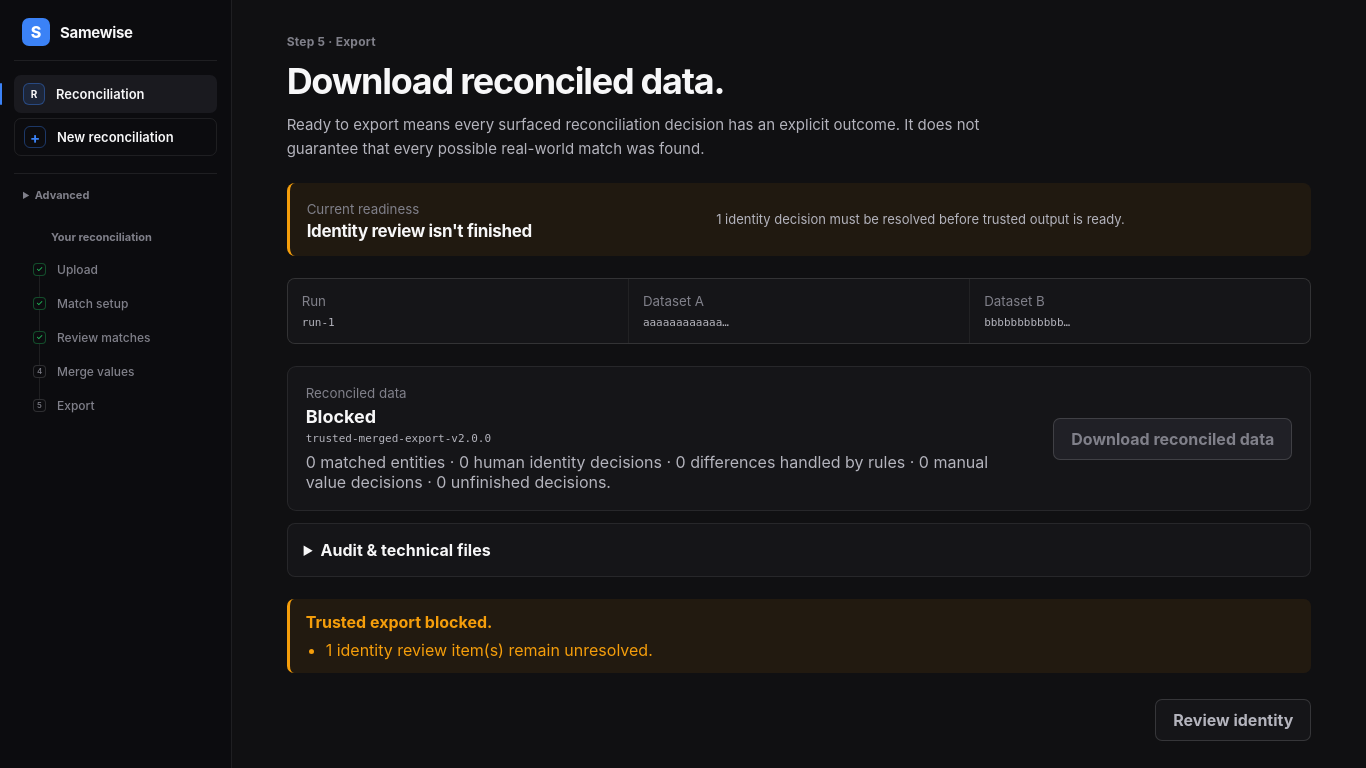
Scenario: Samewise vertical slice › cancels the New reconciliation confirmation
What coordinates should you click on to do the following:
click the button "+ New reconciliation"
I would click on:
 (116, 137)
Its box is [14,118,217,156].
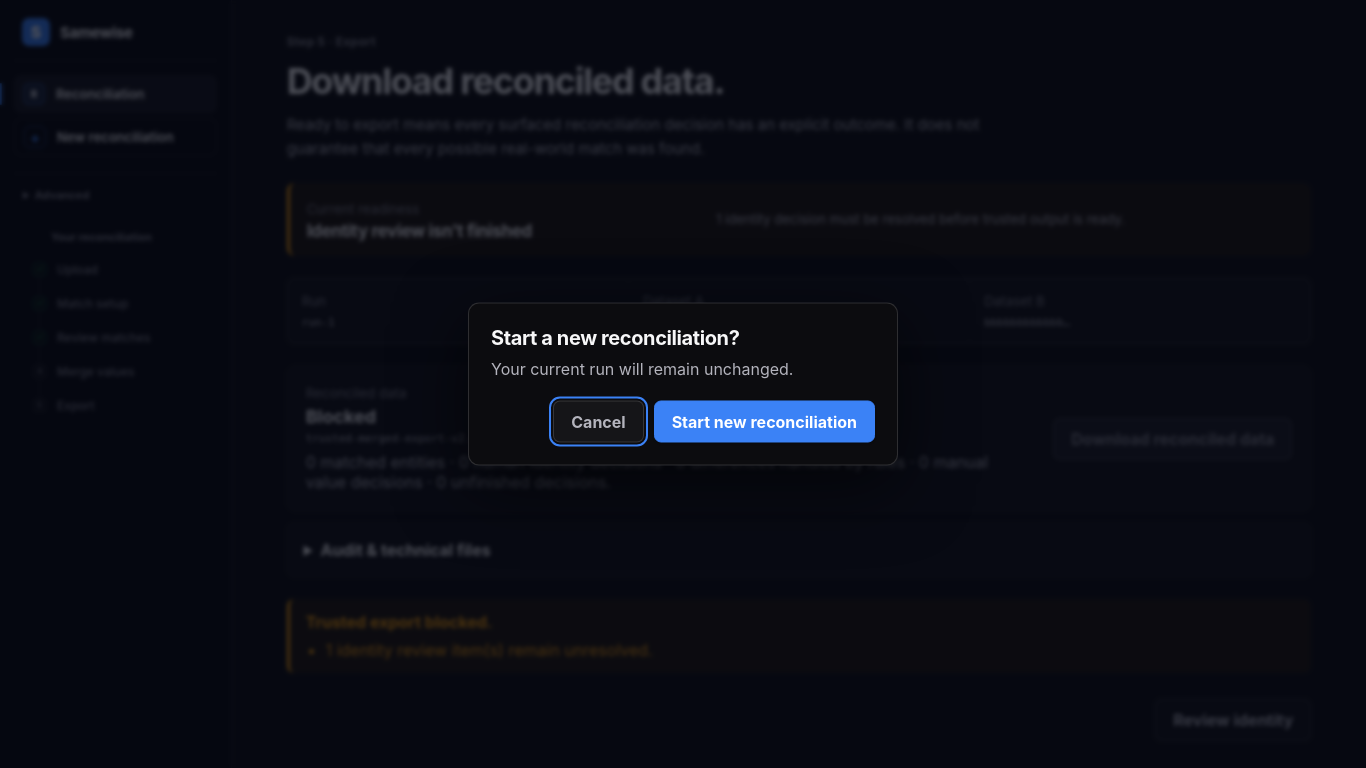
What coordinates should you click on to do the following:
click the button "Cancel"
I would click on:
 (598, 422)
Its box is [553,400,644,442].
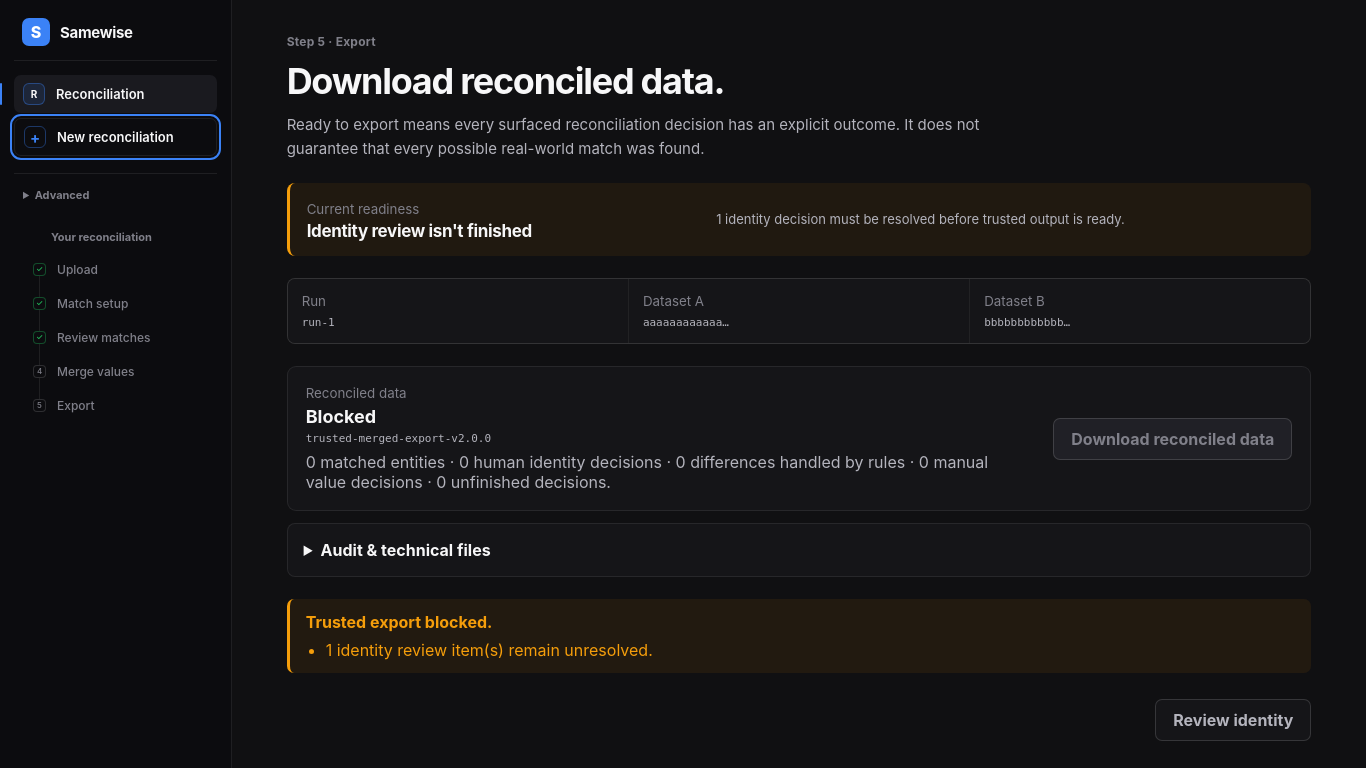
Expected: the text "run-1" is shown, [302,316,335,329]
Expected: the dialog is gone
